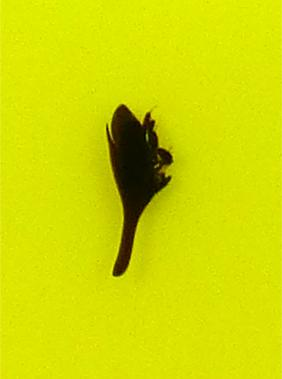Hemiptera: (100, 100, 182, 279)
